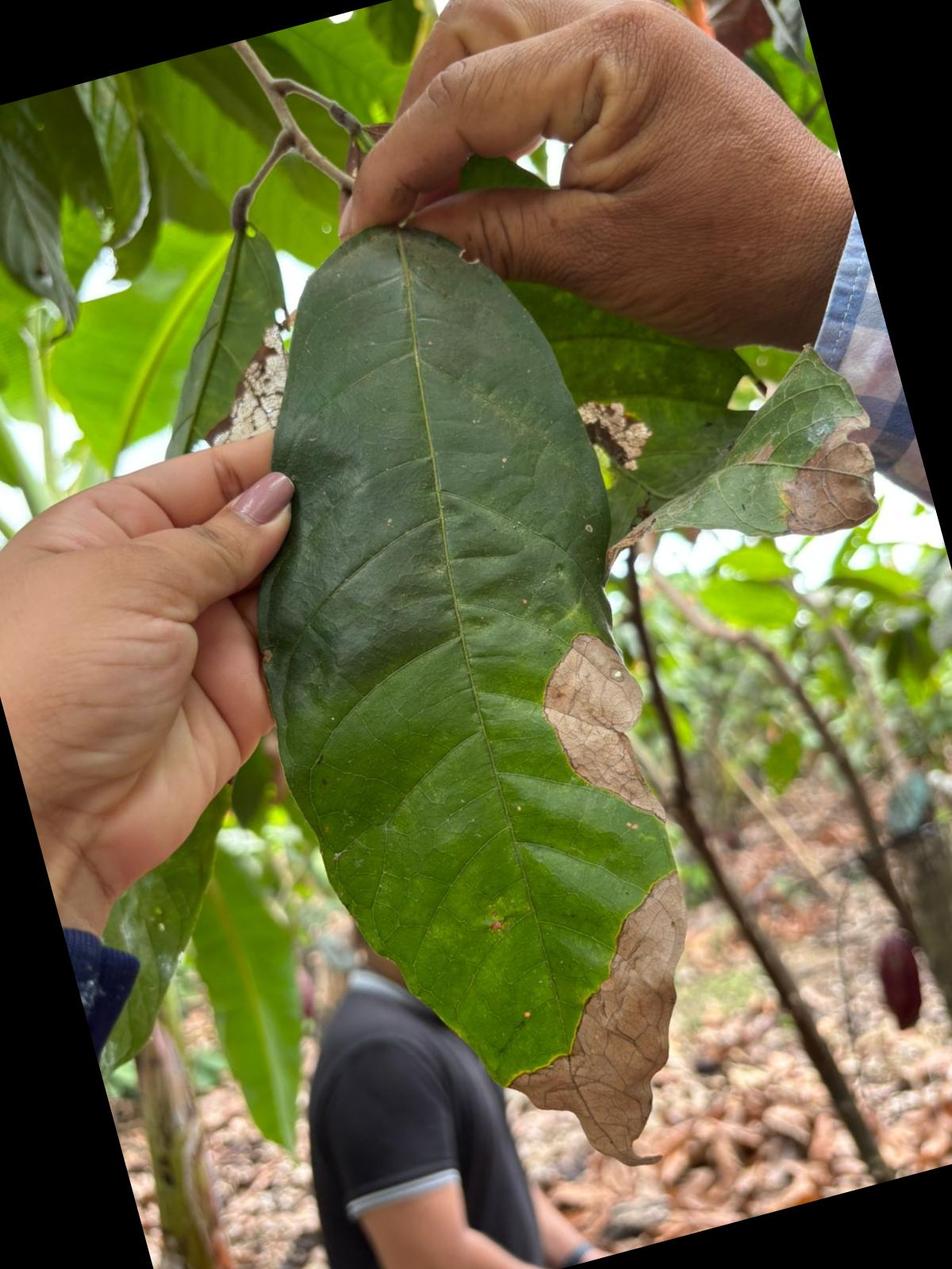Potasio: (259, 228, 686, 1165)
